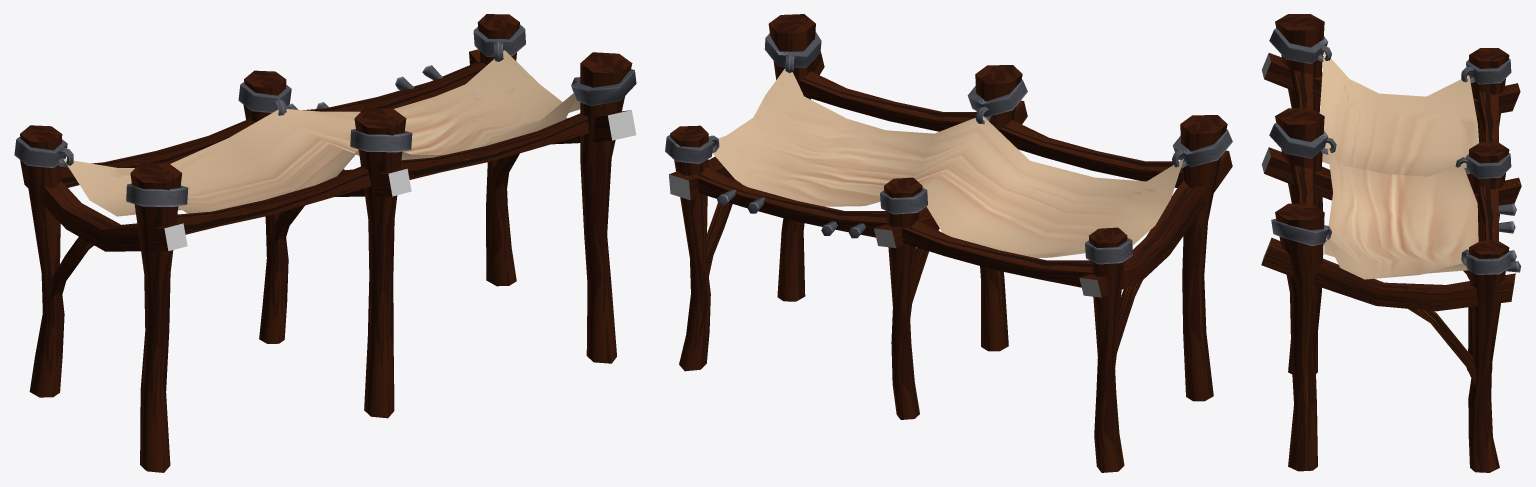
The model's file is SM_PROP_market_v04_01.fbx.
3 renders of one model, left to right at view 1: azimuth 30°, elevation 25°; view 2: azimuth 150°, elevation 25°; view 3: azimuth 270°, elevation 25°, orthographic. The views are drawn at different scales.
Visible parts, largest first — view 1: SM_PROP_market_v04_01; view 2: SM_PROP_market_v04_01; view 3: SM_PROP_market_v04_01.
Part boxes in pixels (bbox=[...]): SM_PROP_market_v04_01: bbox=[14, 14, 636, 472]; SM_PROP_market_v04_01: bbox=[665, 14, 1232, 472]; SM_PROP_market_v04_01: bbox=[1261, 14, 1521, 472].
Bounding box in the file's own units: 668 × 378 × 349.
